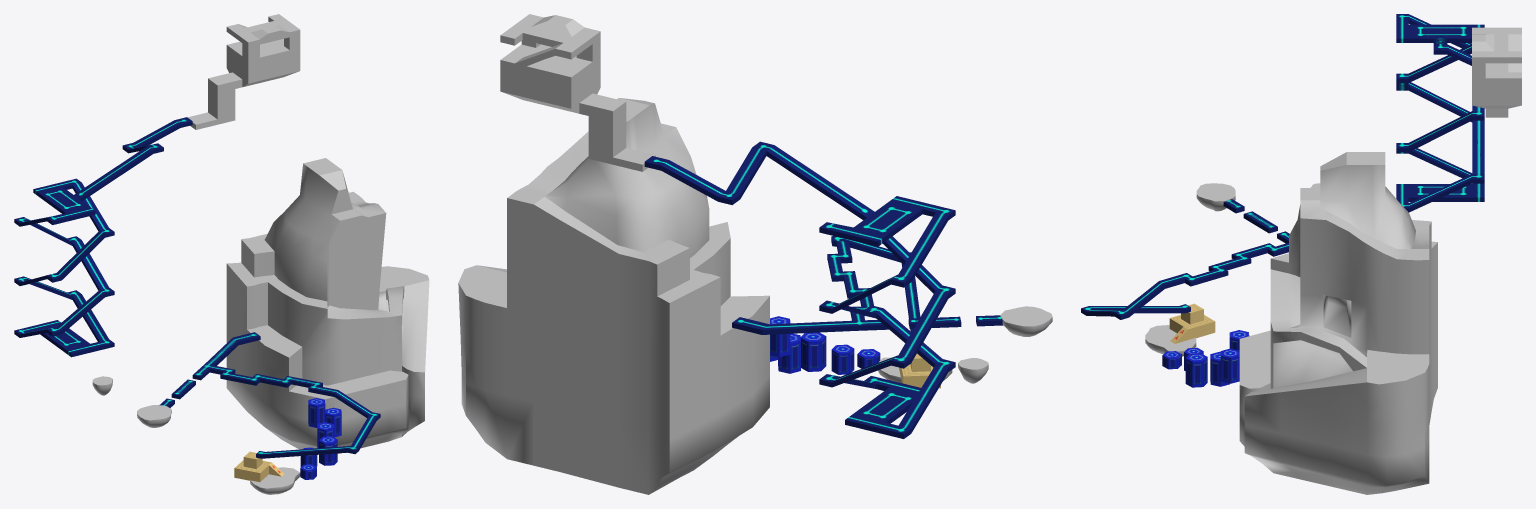
Rendered from DJB_StgMdl_00.FBX.
3 views of the same model, side by side, from view 1: azimuth 30°, elevation 25°; view 2: azimuth 150°, elevation 25°; view 3: azimuth 270°, elevation 25° (orthographic). The views are drawn at different scales.
Visible parts, largest first — view 1: mountainBabble, LongWay002, pedestal, LongWay, Piramid1, Island_01, Island_002, Plataform008; view 2: mountainBabble, LongWay002, pedestal, LongWay, Island_002, Plataform007, Piramid1, Plataform006; view 3: mountainBabble, LongWay002, pedestal, LongWay, Piramid1, Island_01, Island_002, Plataform007, Plataform009.
Boxes of the visible parts, x1=… form: mountainBabble: x1=226, y1=158, x2=429, y2=453; LongWay002: x1=14, y1=117, x2=192, y2=357; pedestal: x1=188, y1=14, x2=300, y2=129; LongWay: x1=159, y1=332, x2=380, y2=458; Piramid1: x1=234, y1=451, x2=284, y2=481; Island_01: x1=250, y1=467, x2=300, y2=494; Island_002: x1=137, y1=405, x2=171, y2=427; Plataform008: x1=308, y1=398, x2=325, y2=427; mountainBabble: x1=458, y1=98, x2=769, y2=494; LongWay002: x1=644, y1=141, x2=955, y2=438; pedestal: x1=500, y1=14, x2=655, y2=171; LongWay: x1=732, y1=236, x2=1003, y2=334; Island_002: x1=1000, y1=306, x2=1052, y2=336; Plataform007: x1=800, y1=332, x2=826, y2=371; Piramid1: x1=899, y1=353, x2=940, y2=388; Plataform006: x1=831, y1=344, x2=854, y2=374; mountainBabble: x1=1239, y1=152, x2=1437, y2=494; LongWay002: x1=1396, y1=14, x2=1484, y2=212; pedestal: x1=1472, y1=27, x2=1521, y2=117; LongWay: x1=1081, y1=199, x2=1289, y2=319; Piramid1: x1=1169, y1=303, x2=1215, y2=343; Island_01: x1=1145, y1=325, x2=1196, y2=356; Island_002: x1=1196, y1=183, x2=1235, y2=211; Plataform007: x1=1185, y1=353, x2=1207, y2=387; Plataform009: x1=1220, y1=348, x2=1239, y2=383.
Size of the model in its own units: 523 by 494 by 466.
